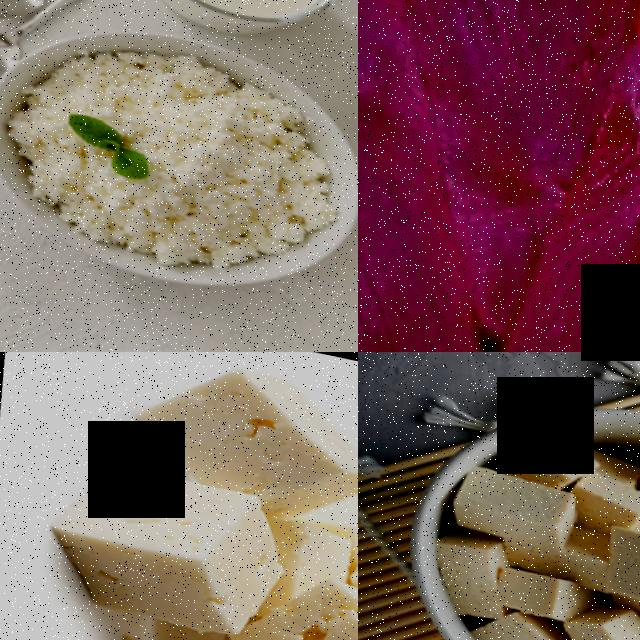tofu: (23, 449, 286, 640), (118, 352, 358, 520), (439, 460, 582, 553), (215, 562, 358, 640), (583, 519, 640, 612), (453, 603, 595, 640), (546, 595, 640, 640)
tuna: (358, 0, 640, 352), (434, 0, 640, 352), (358, 0, 545, 352)
white rice: (133, 75, 319, 242), (9, 157, 159, 247), (35, 42, 162, 125)
